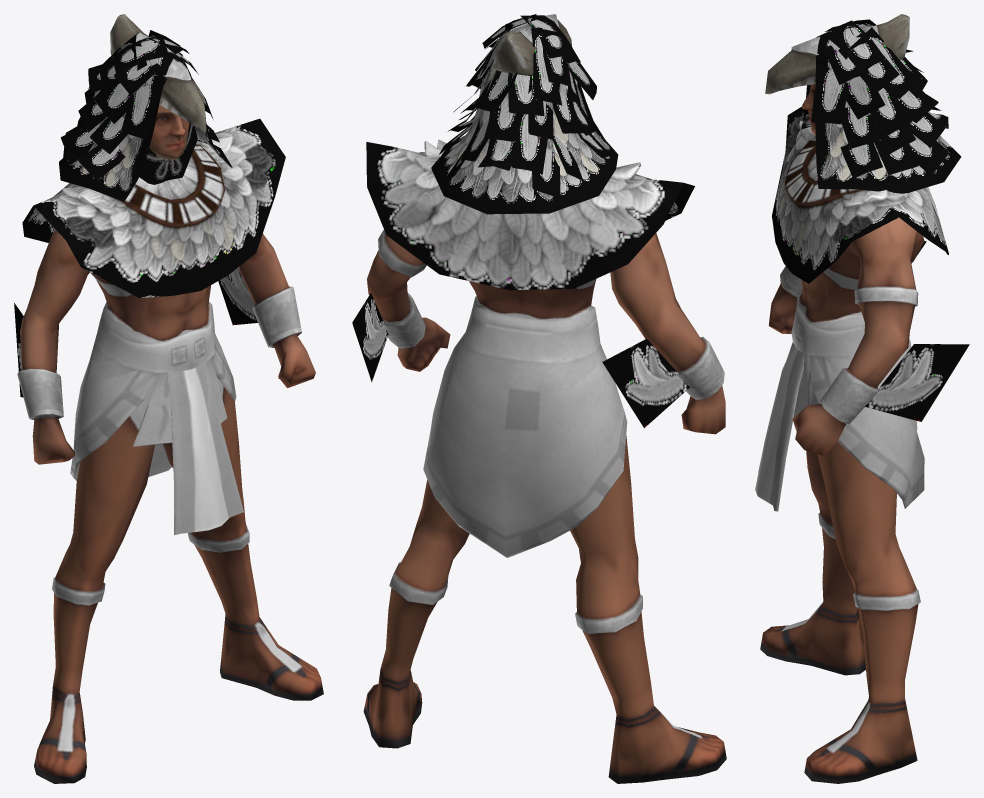
Rendered from body-mediumnobleshutsoldiers.glb.
3 renders of one model, left to right at view 1: azimuth 30°, elevation 25°; view 2: azimuth 150°, elevation 25°; view 3: azimuth 270°, elevation 25°, orthographic. The views are drawn at different scales.
Bounding box in the file's own units: 1.01 × 2.16 × 0.605.
Materials: 2 (2 with a texture image).
